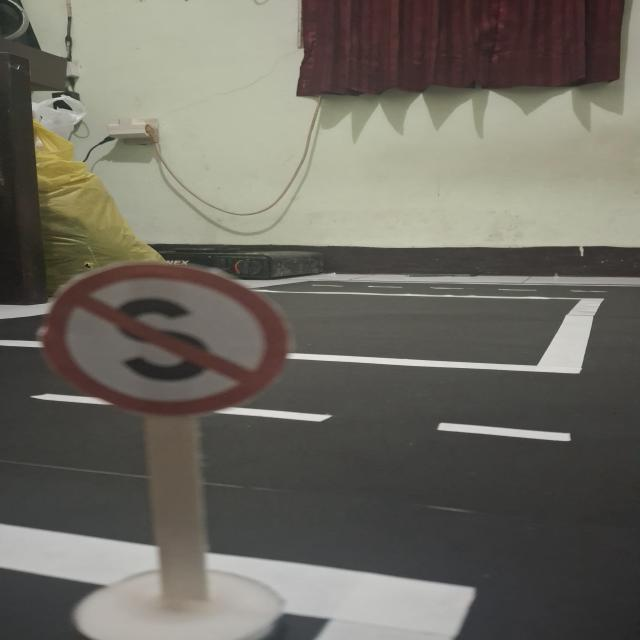Rambu Berhenti: (44, 262, 286, 415)
